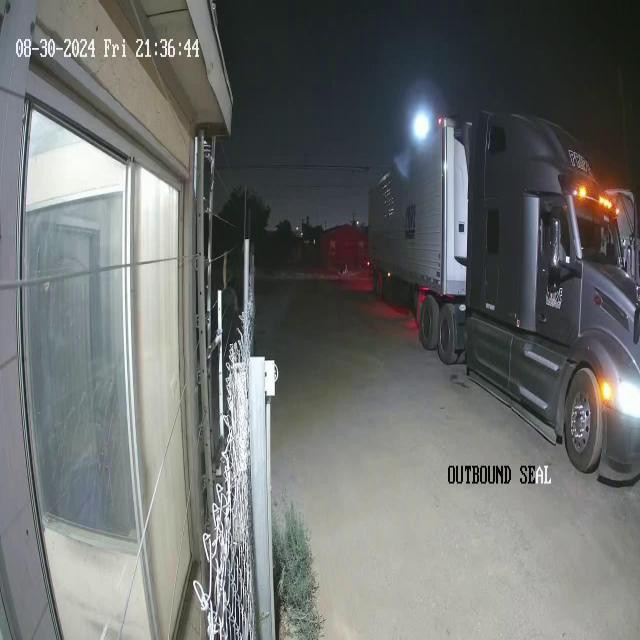TRUCK_IN: (367, 106, 639, 478)
